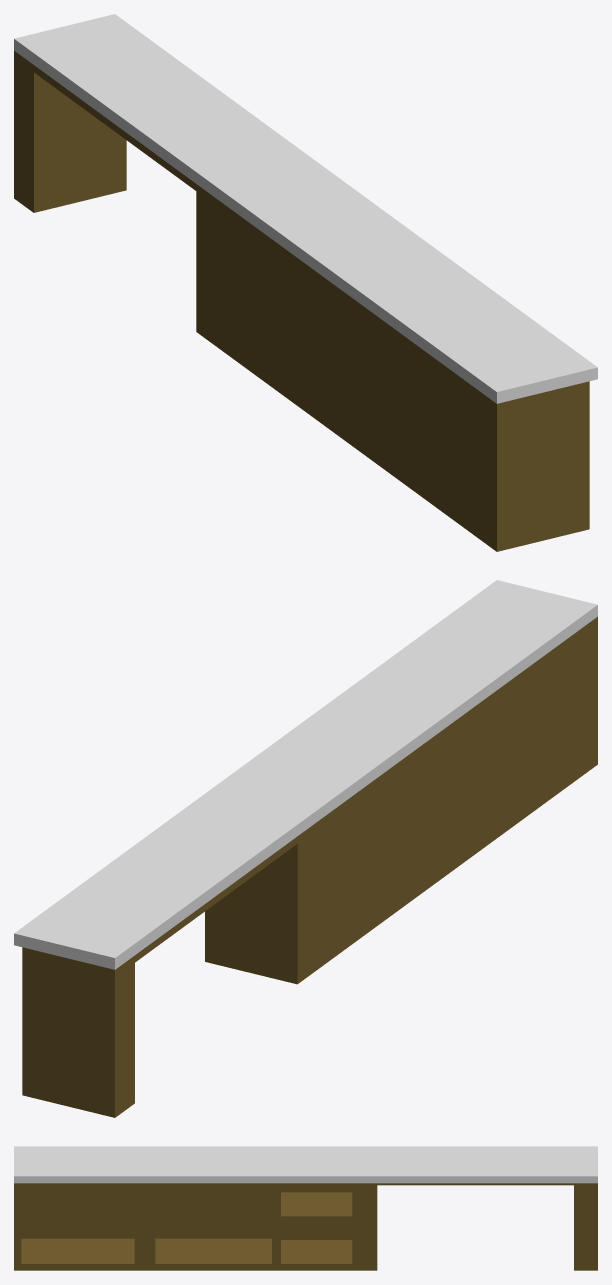
The model's file is Counter.fbx.
3 views of the same model, one above another, from view 1: azimuth 30°, elevation 25°; view 2: azimuth 150°, elevation 25°; view 3: azimuth 270°, elevation 25° (orthographic). The views are drawn at different scales.
Parts seen in each view (by area): view 1: Counter; view 2: Counter; view 3: Counter.
Boxes of the visible parts, left/top/right/bottom form: Counter: left=14, top=14, right=597, bottom=551; Counter: left=14, top=580, right=597, bottom=1117; Counter: left=14, top=1146, right=597, bottom=1270.
Size of the model in its own units: 6.66 by 10.07 by 55.14.
